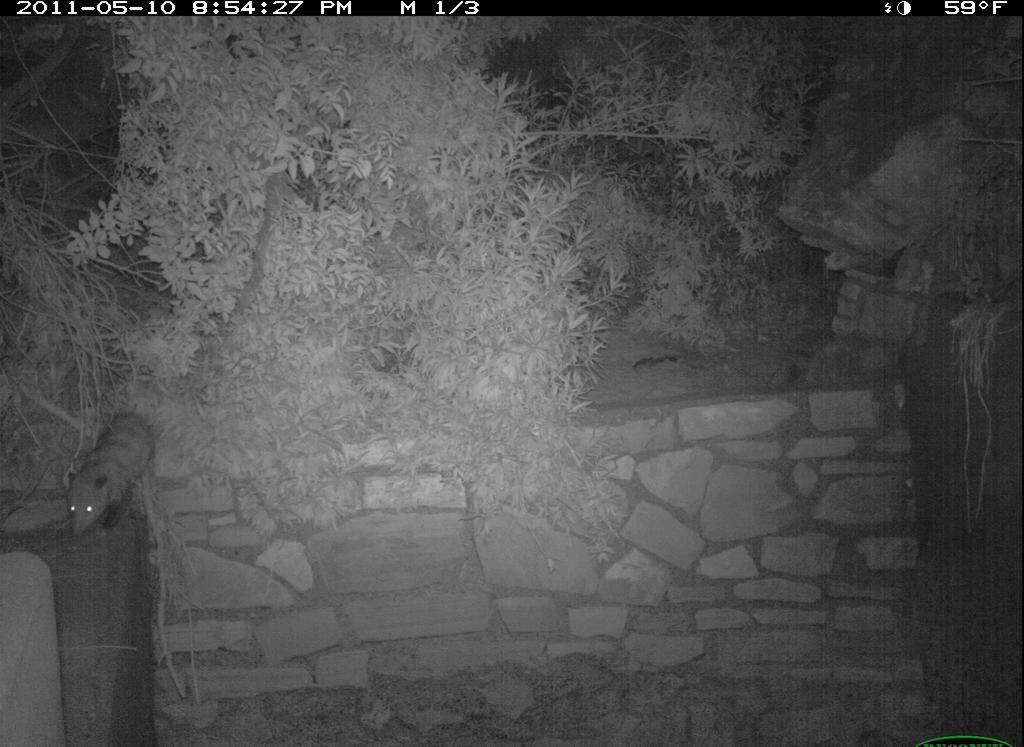opossum: (39, 401, 171, 551)
